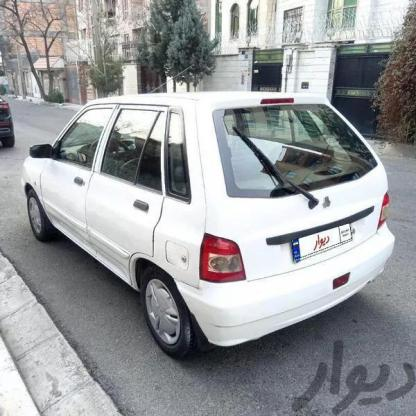Car: (16, 89, 402, 356), (0, 98, 24, 150)
